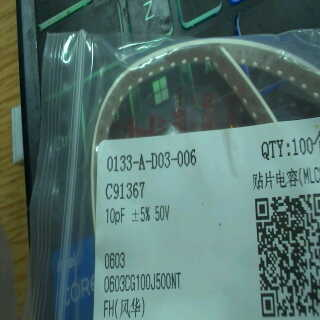10pF: (102, 202, 127, 229)
